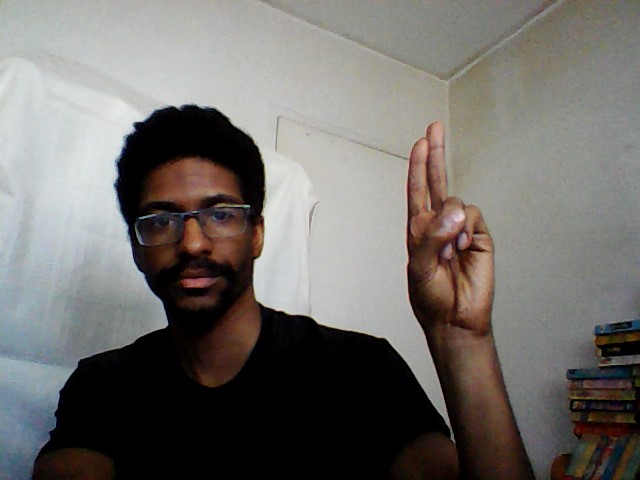u: (401, 118, 501, 335)
